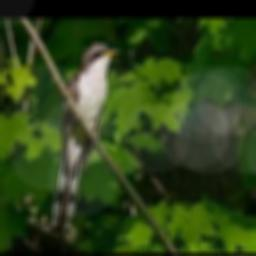Cuckoo: (50, 42, 120, 234)
